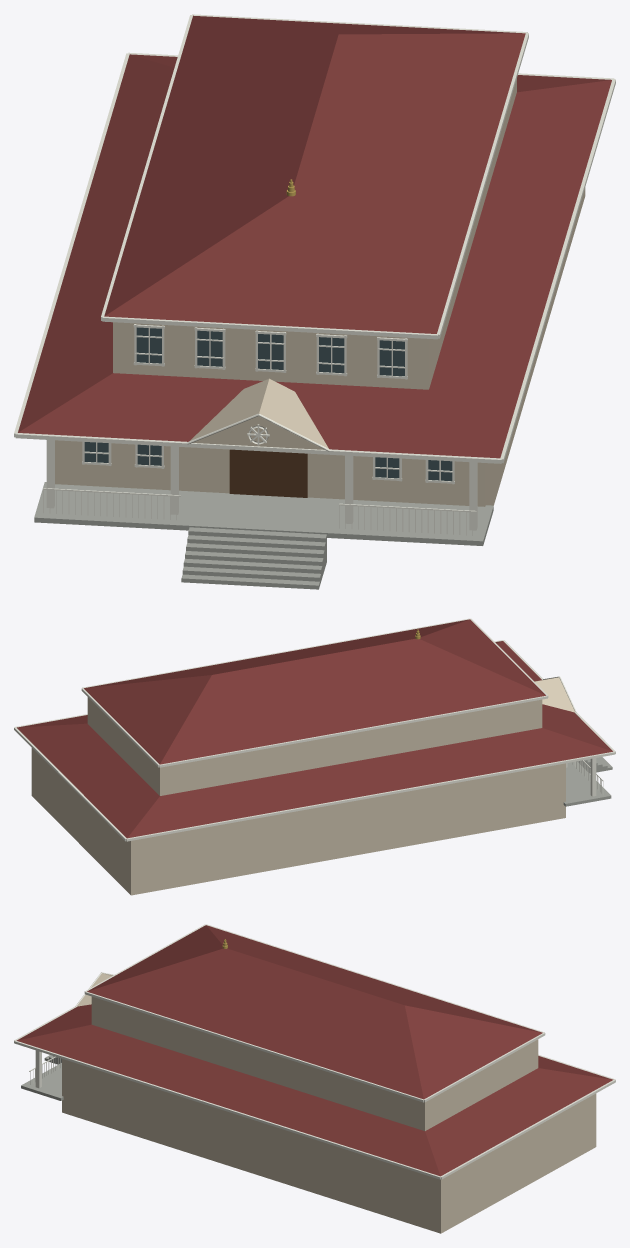
Rendered from west-end-buddhist-temple-study.glb.
The picture shows the model from 3 angles, top to bottom: view 1: azimuth 30°, elevation 25°; view 2: azimuth 150°, elevation 25°; view 3: azimuth 270°, elevation 25°; orthographic projection. The views are drawn at different scales.
Parts seen in each view (by area): view 1: Temple-roof, Temple-stucco, Temple-stone, Temple-white, Temple-glass, Temple-door; view 2: Temple-roof, Temple-stucco, Temple-white, Temple-stone; view 3: Temple-roof, Temple-stucco, Temple-white, Temple-stone.
Boxes of the visible parts, x1,y1,x2,y2 form: Temple-roof: [18, 15, 611, 458]; Temple-stucco: [55, 78, 585, 506]; Temple-stone: [34, 482, 493, 589]; Temple-white: [14, 14, 615, 535]; Temple-glass: [84, 327, 452, 481]; Temple-door: [229, 449, 307, 497]; Temple-roof: [17, 619, 612, 838]; Temple-stucco: [31, 677, 574, 895]; Temple-white: [14, 618, 615, 841]; Temple-stone: [563, 757, 612, 806]; Temple-roof: [16, 925, 613, 1176]; Temple-stucco: [62, 973, 596, 1233]; Temple-white: [14, 924, 615, 1179]; Temple-stone: [21, 1055, 63, 1100].
Bounding box in the file's own units: 35.32 × 11.06 × 38.36.
